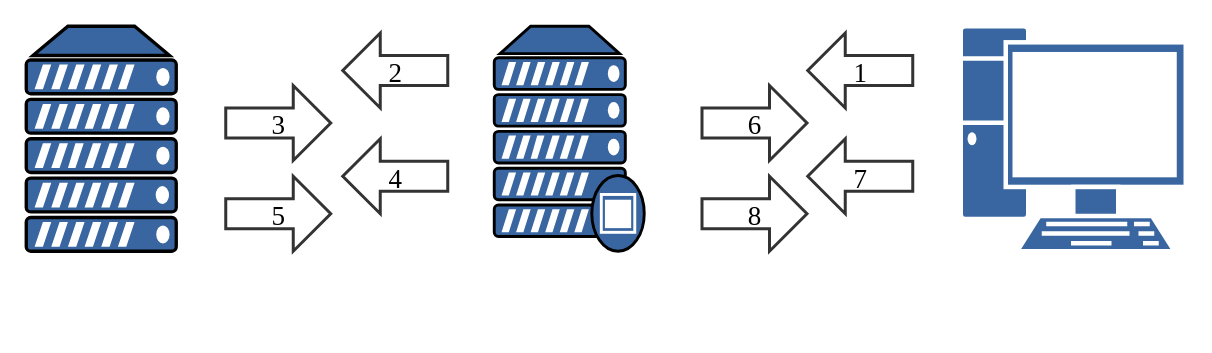
Image size: 1212x353. Some labels were removed from this diagram. The shapes that lost their labels are listed below. From the top down, each one's centre as x and y in pixels, then its label:
At [100,138]: "Веб-сервер".
At [568,138]: "Веб прокси-сервер".
At [1072,138]: "Пользователь".
